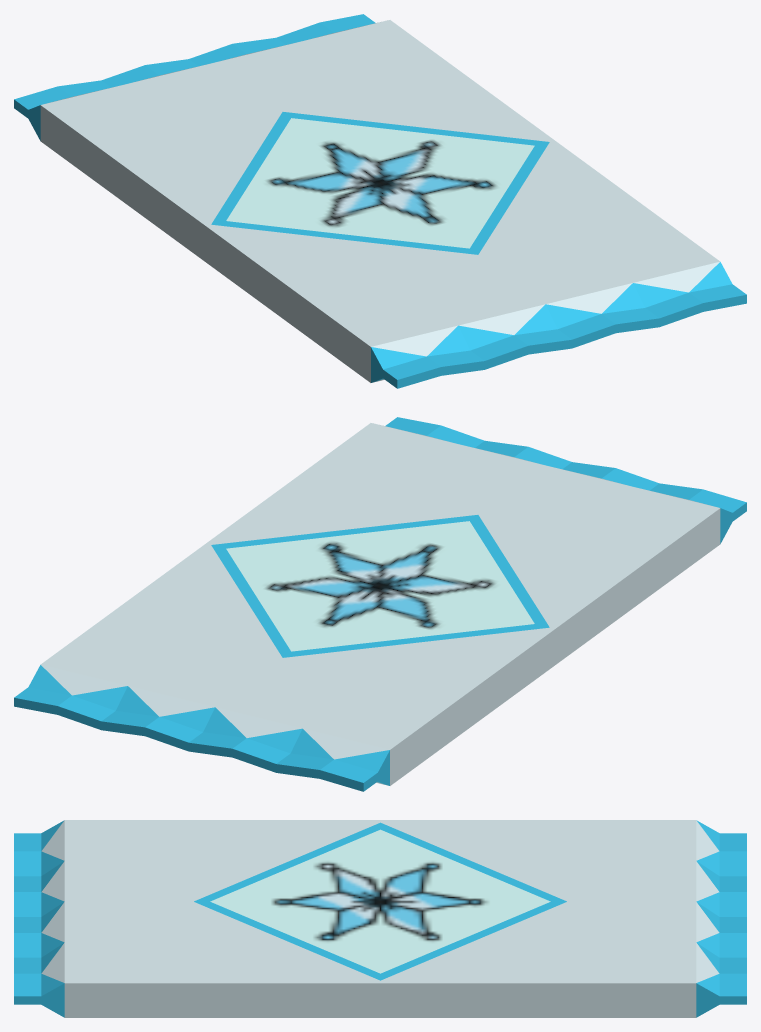
Rendered from CardPack_Ice.fbx.
3 renders of one model, top to bottom at view 1: azimuth 30°, elevation 25°; view 2: azimuth 150°, elevation 25°; view 3: azimuth 270°, elevation 25°, orthographic. The views are drawn at different scales.
Visible parts, largest first — view 1: Ice; view 2: Ice; view 3: Ice.
Part boxes in pixels (box(x1,y1,x2,y2)): Ice: box(14, 14, 746, 388); Ice: box(14, 417, 746, 791); Ice: box(14, 820, 746, 1017).
Size of the model in its own units: 17.42 by 1.73 by 33.09.
